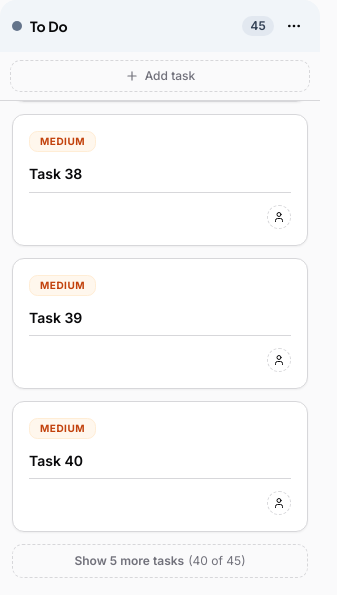
KanbanColumn › progressively reveals large task columns to reduce initial render cost
(page scrolled)
Expected: the heading "Task 40" is shown, x1=29 y1=452 x2=83 y2=469
Click the button "Show 5 more tasks(40 of 45)".
click(160, 561)  # box x1=12 y1=544 x2=308 y2=578
(page scrolled)
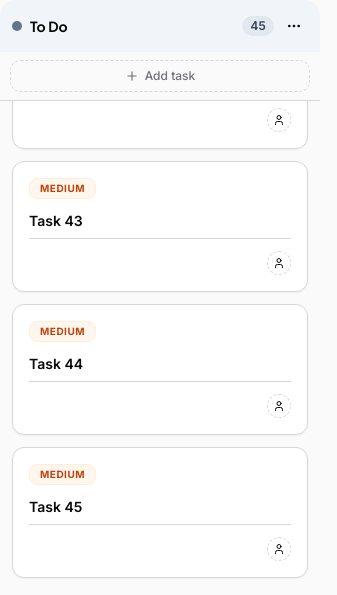
Now the heading "Task 45" is shown, box x1=29 y1=498 x2=82 y2=515
Now the button "Show" is gone
